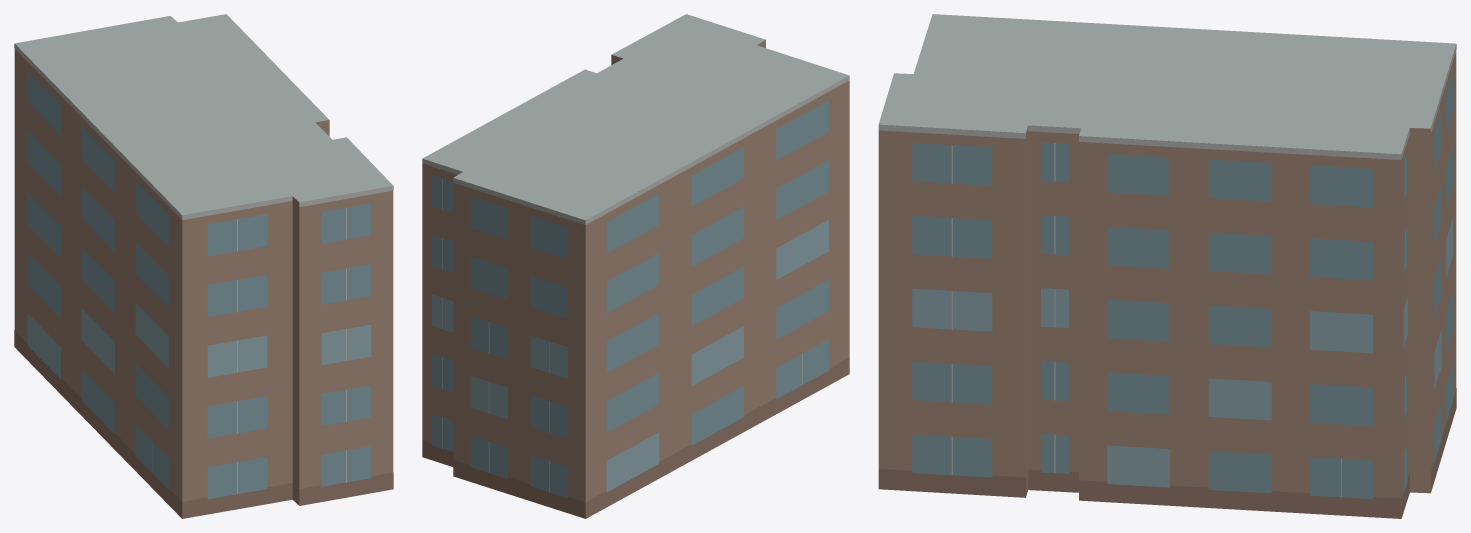
The model's file is survey-upis-33040808.glb.
The picture shows the model from 3 angles, left to right: view 1: azimuth 30°, elevation 25°; view 2: azimuth 150°, elevation 25°; view 3: azimuth 270°, elevation 25°; orthographic projection. The views are drawn at different scales.
Visible parts, largest first — view 1: survey-upis-33040808.tmp; view 2: survey-upis-33040808.tmp; view 3: survey-upis-33040808.tmp.
Part boxes in pixels (x1,y1,x2,y2): survey-upis-33040808.tmp: (14,14,393,518); survey-upis-33040808.tmp: (422,14,849,518); survey-upis-33040808.tmp: (878,14,1456,518).
Size of the model in its own units: 12.6 by 15.25 by 21.92.
